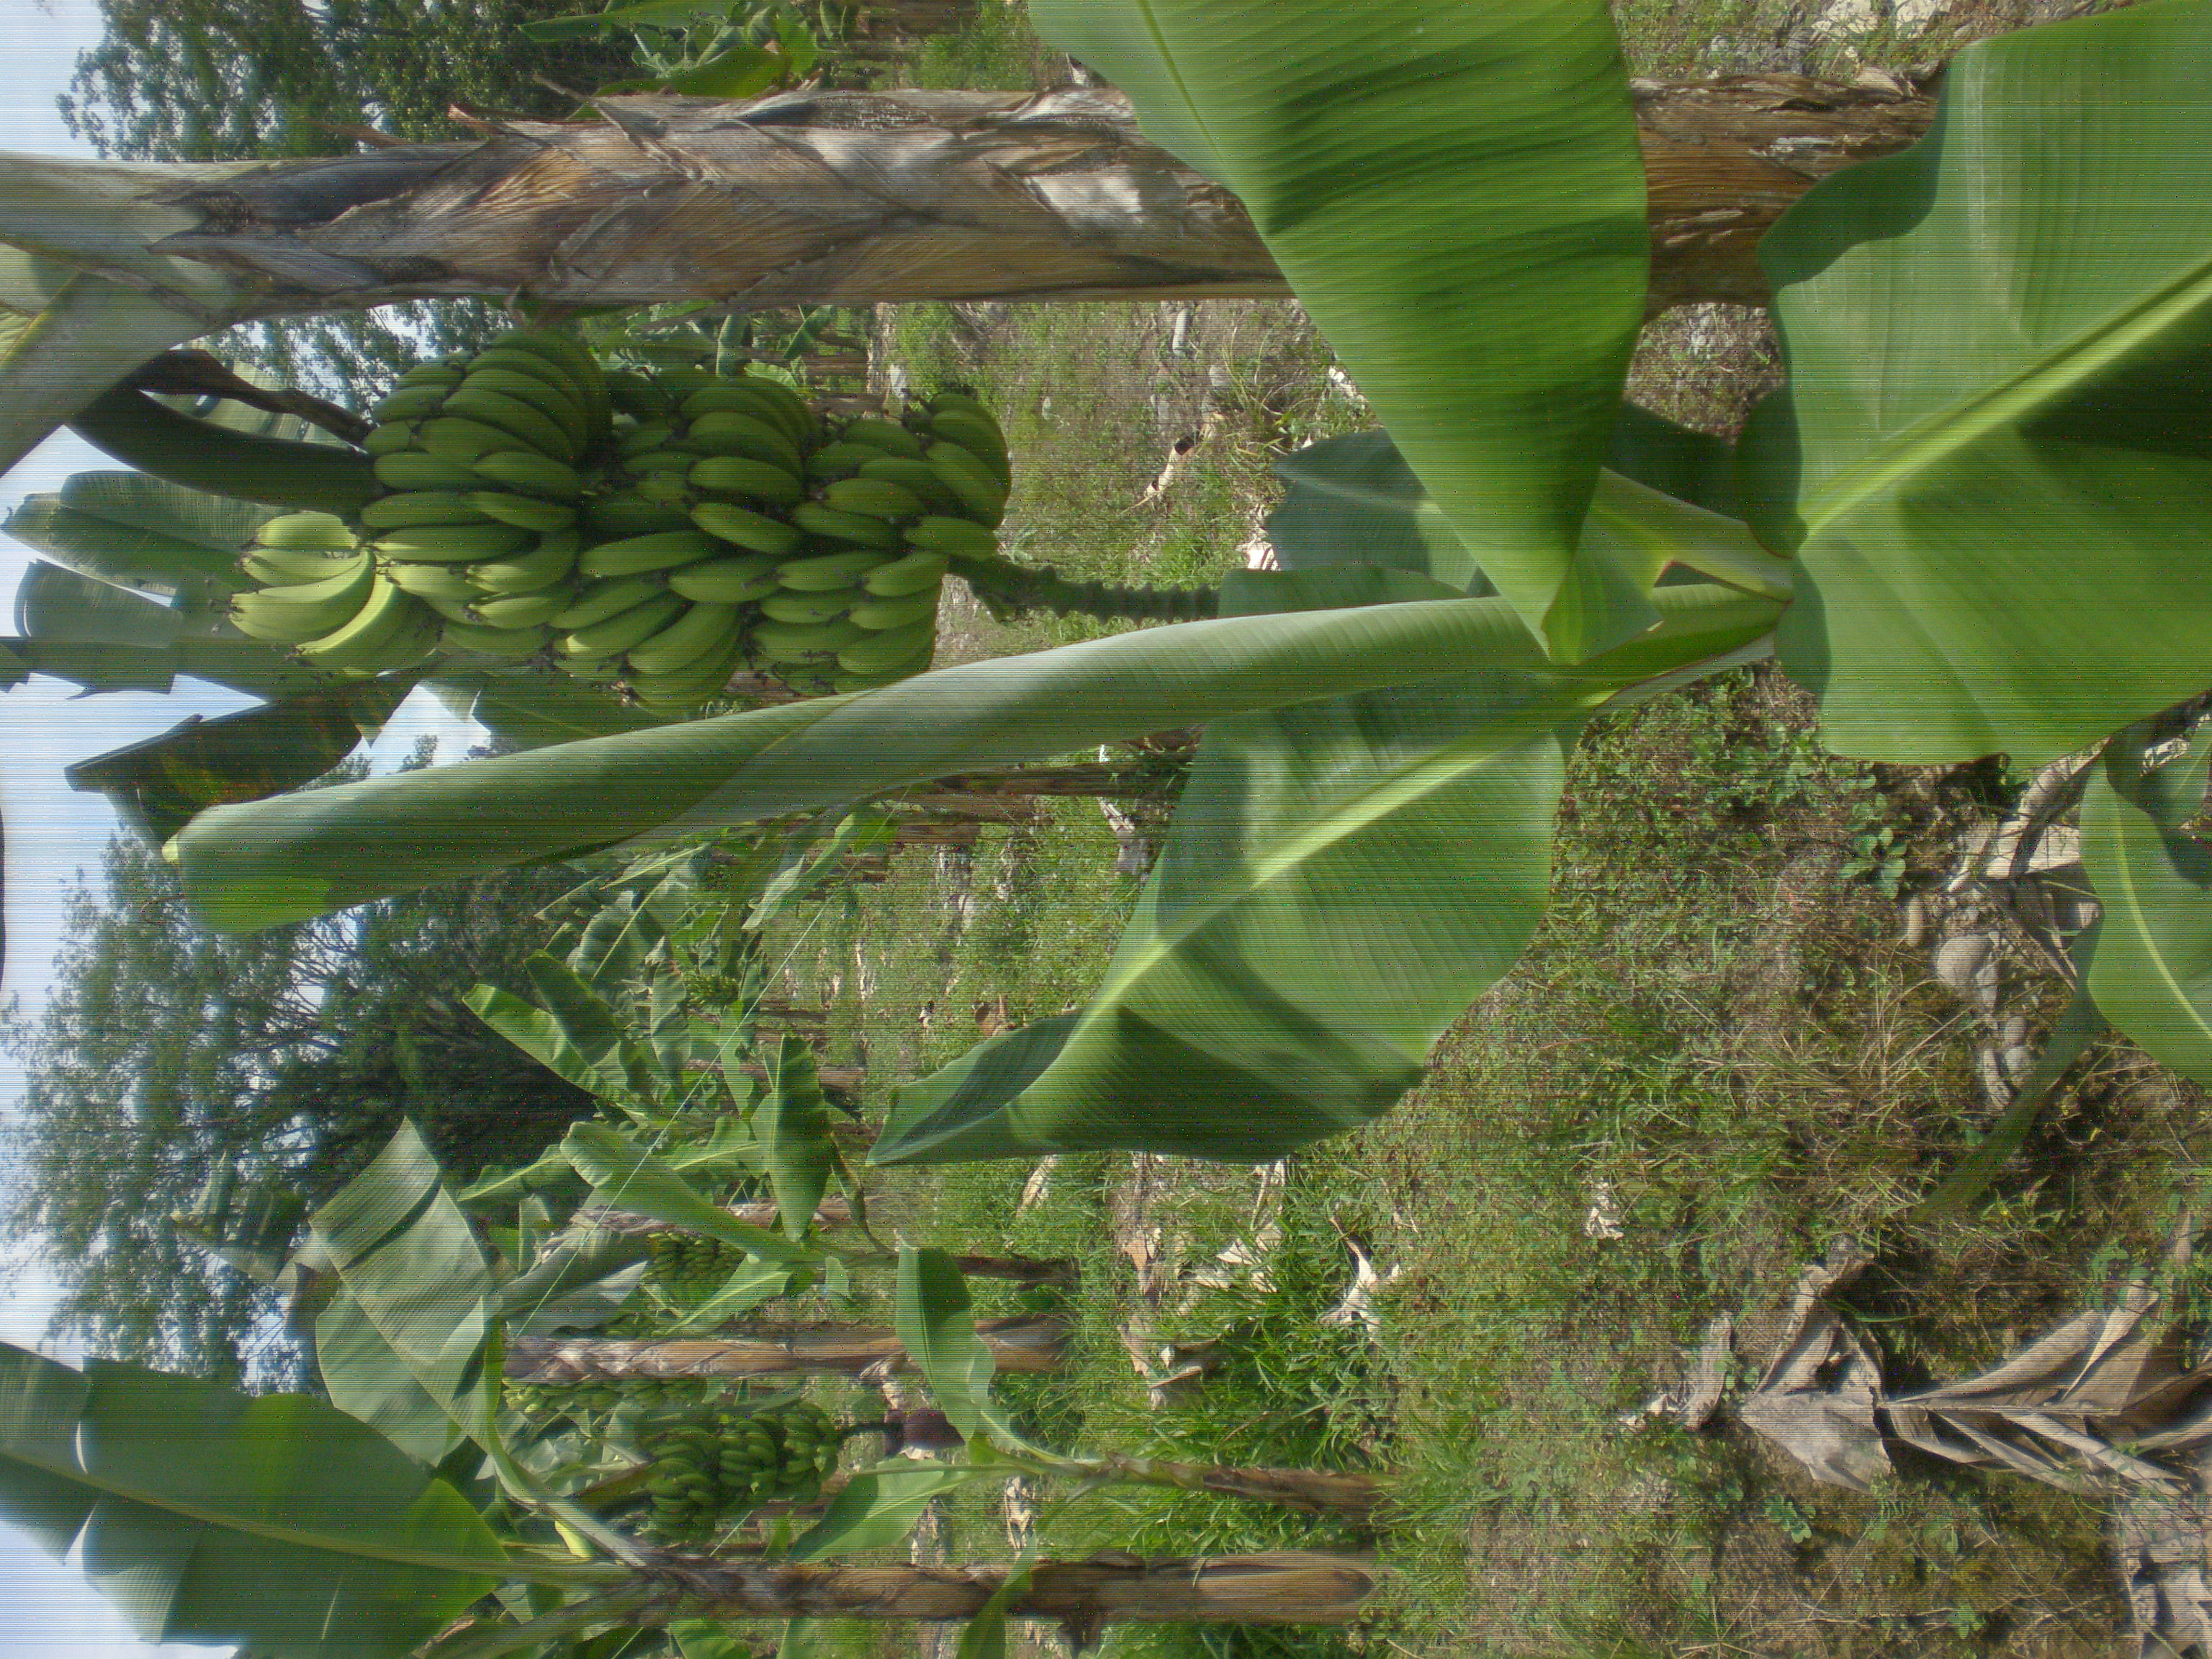candleleafs: (174, 598, 1493, 955)
